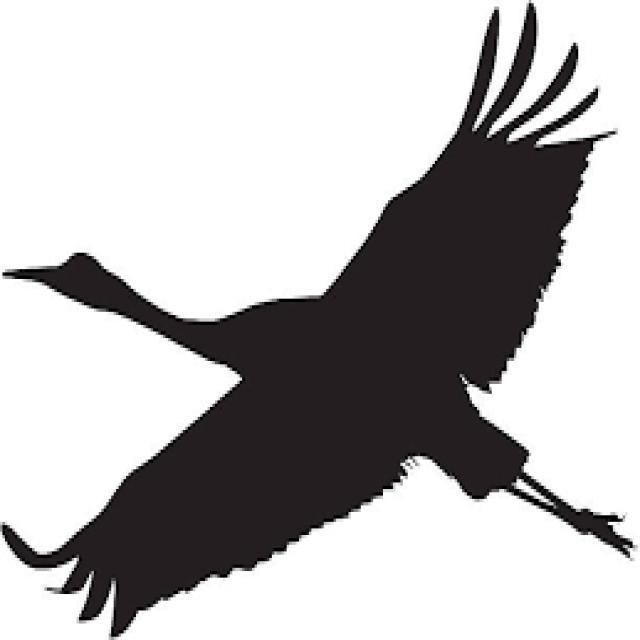bird: (7, 3, 640, 640)
